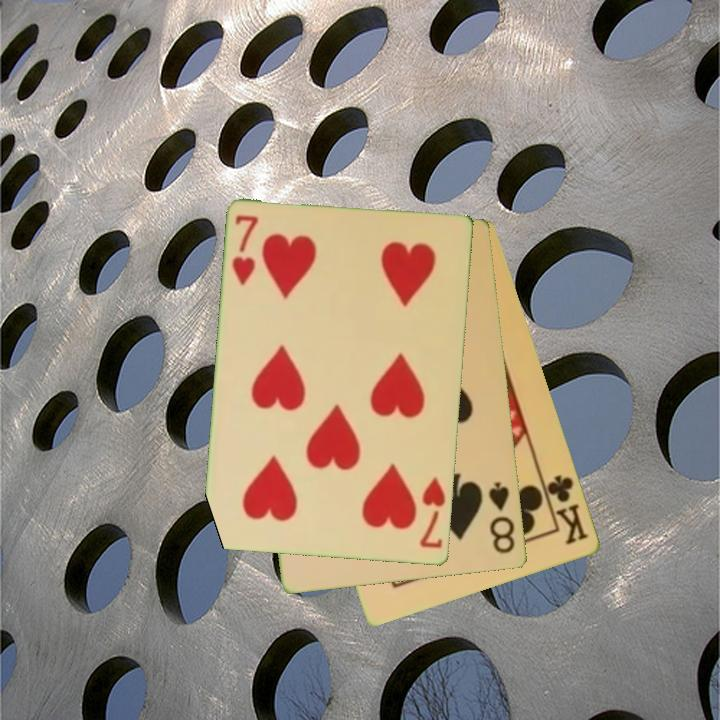7h: (416, 474, 449, 552), (229, 212, 261, 289)
8s: (485, 478, 518, 557)
Kc: (539, 471, 592, 548)
